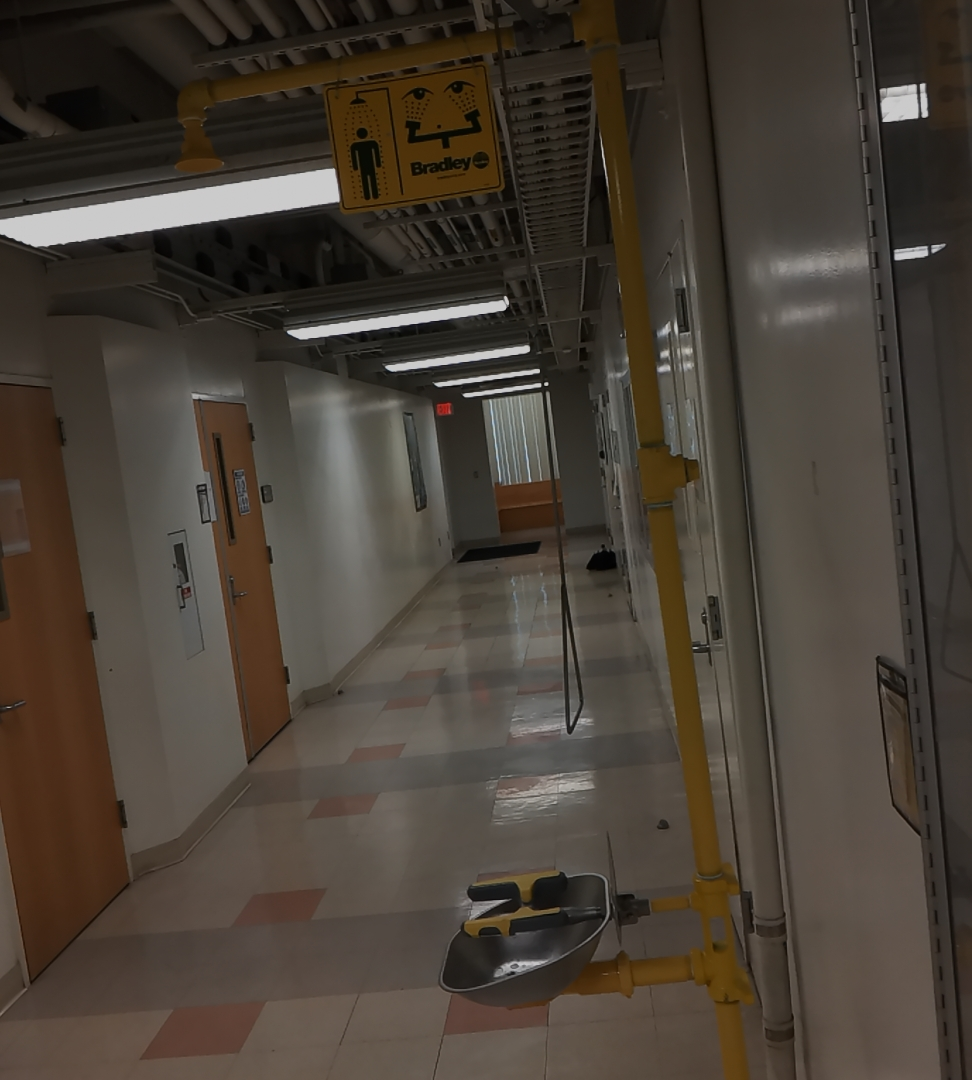emergency_exit: (321, 58, 508, 214)
